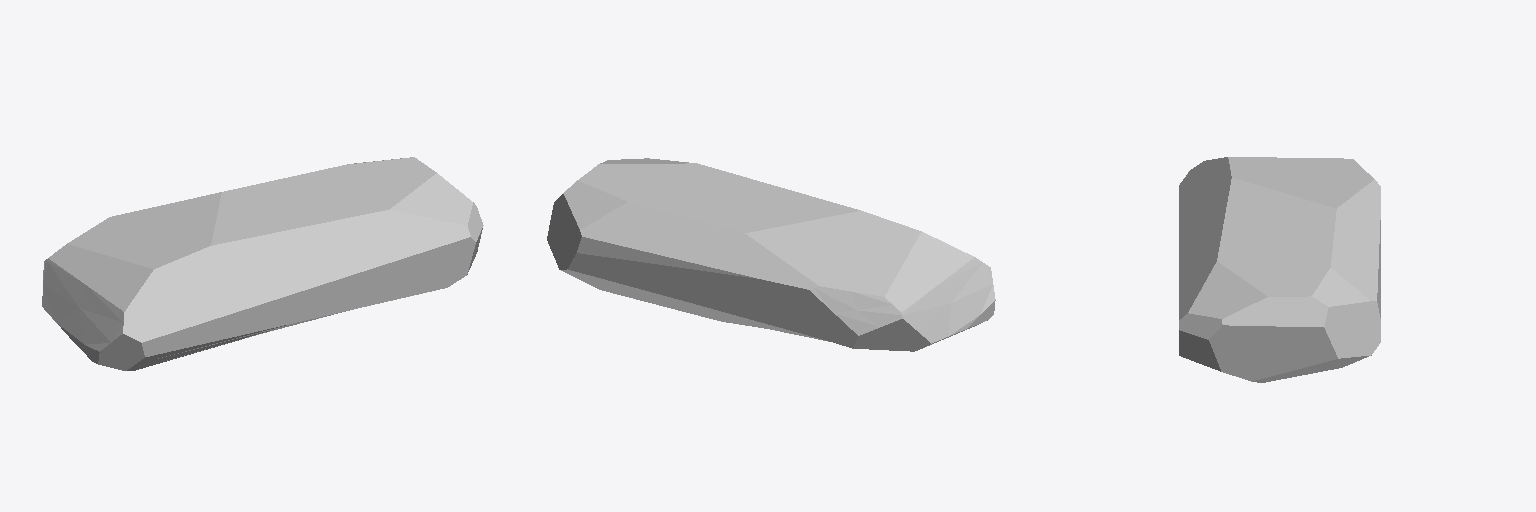
File: Rock_04_Hite.obj
3 renders of one model, left to right at view 1: azimuth 30°, elevation 25°; view 2: azimuth 150°, elevation 25°; view 3: azimuth 270°, elevation 25°, orthographic.
Visible parts, largest first — view 1: pCube1; view 2: pCube1; view 3: pCube1.
Boxes of the visible parts, x1,y1,x2,y2 form: pCube1: [42, 157, 483, 370]; pCube1: [547, 158, 995, 351]; pCube1: [1179, 157, 1380, 382].
Size of the model in its own units: 21.47 by 4.77 by 9.76.